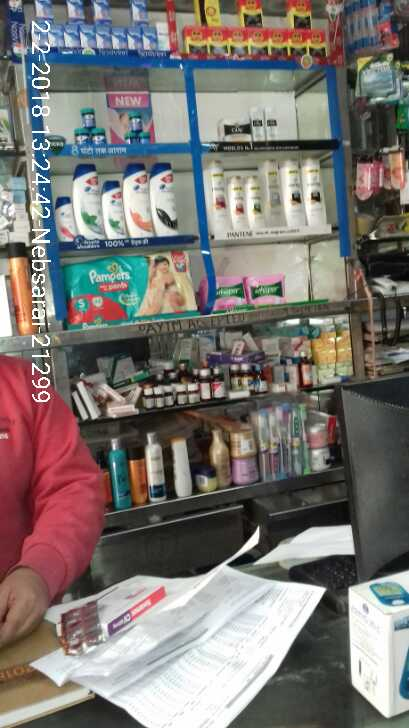vicks: (71, 104, 153, 150)
